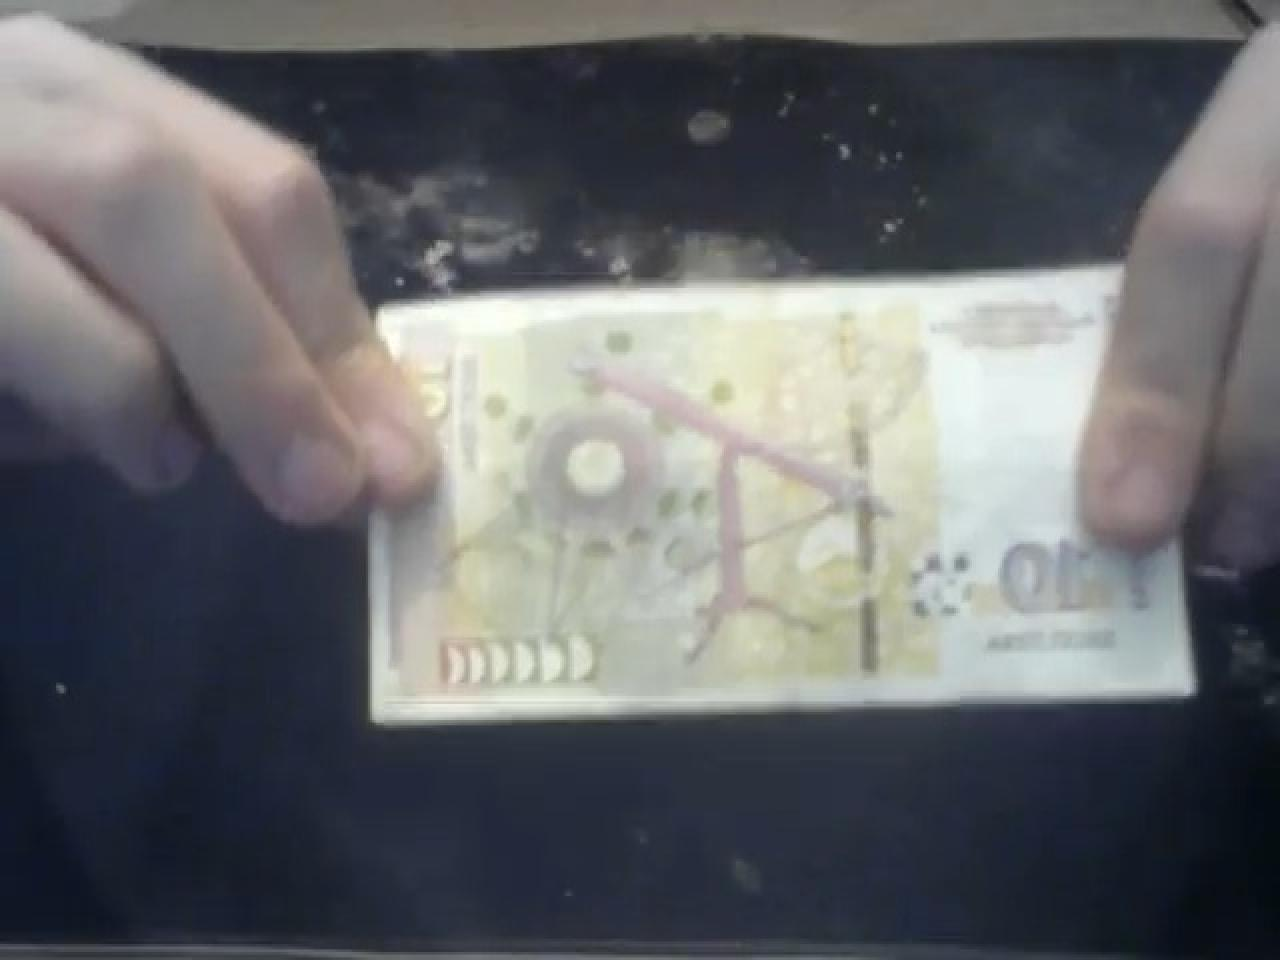10leva: (985, 534, 1121, 641)
